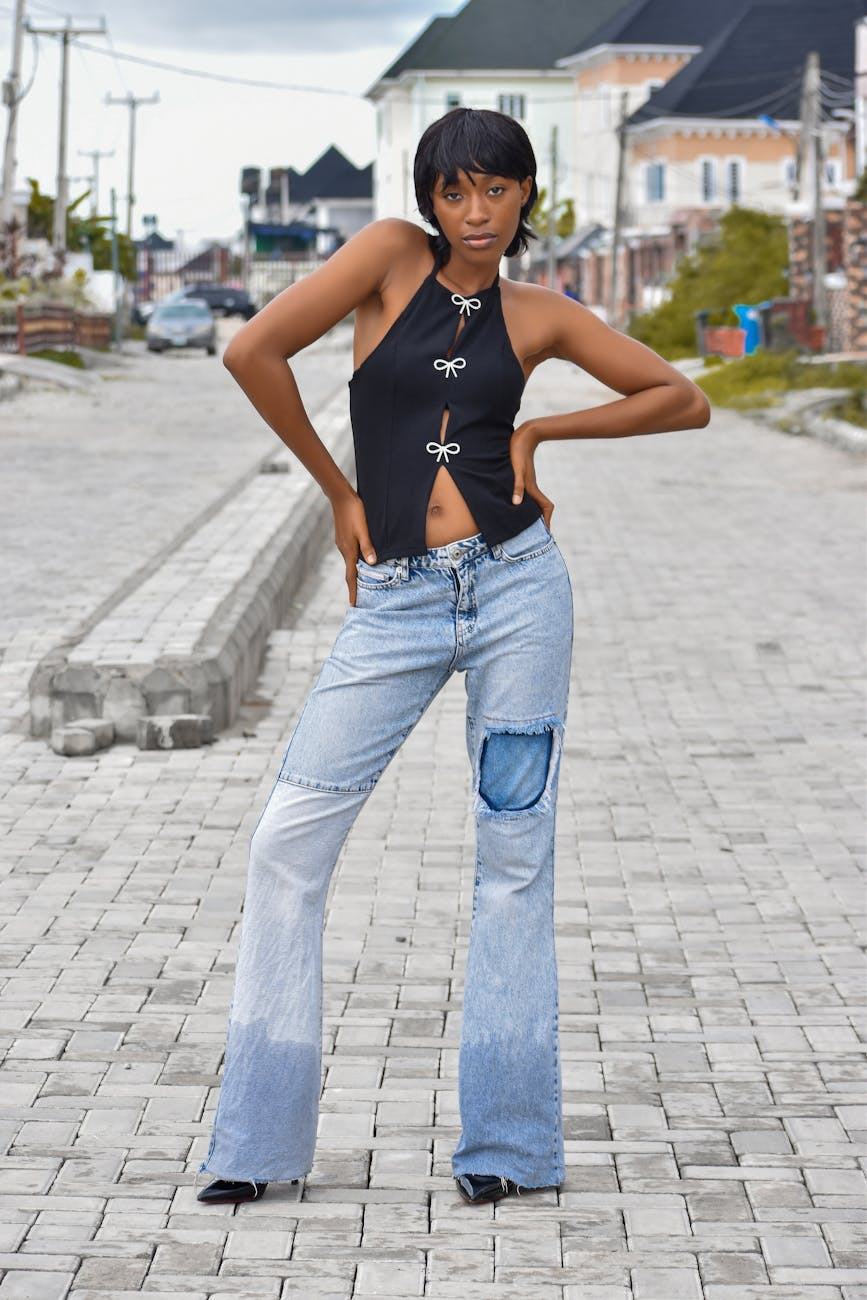ripped_jeans: (468, 673, 567, 1027)
sleeveless_top: (333, 249, 555, 555)
